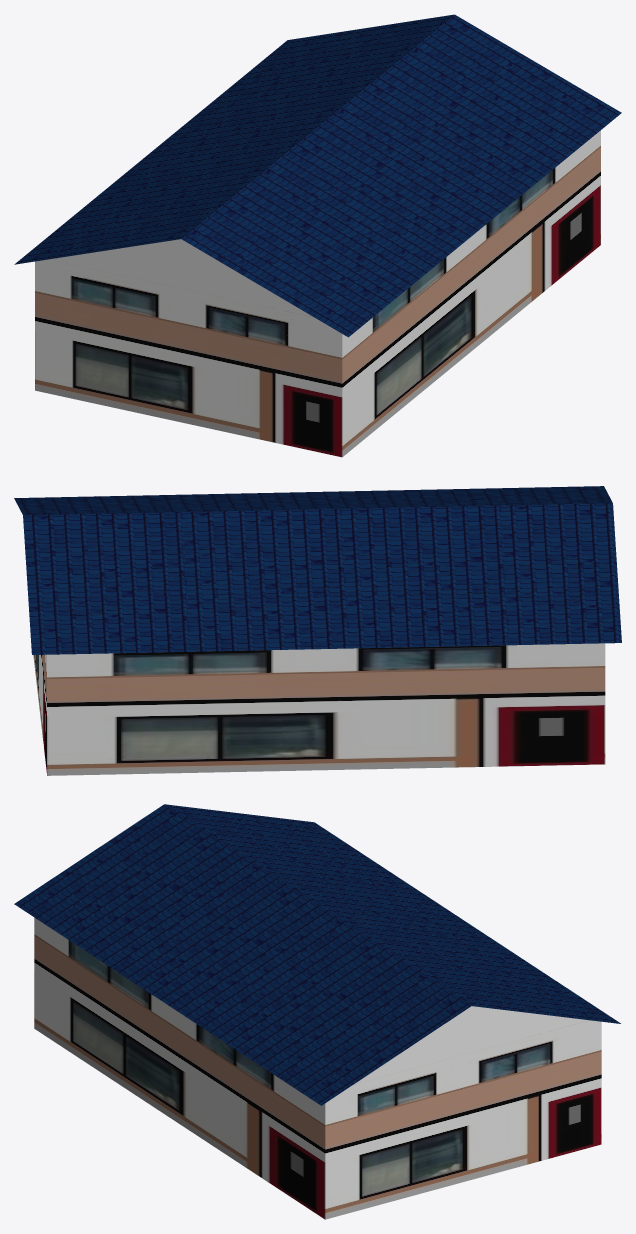
3 renders of one model, top to bottom at view 1: azimuth 30°, elevation 25°; view 2: azimuth 150°, elevation 25°; view 3: azimuth 270°, elevation 25°, orthographic. The views are drawn at different scales.
Parts seen in each view (by area): view 1: CityEngineMaterial_6_m, CityEngineMaterial_5_m, CityEngineMaterial_3_m; view 2: CityEngineMaterial_6_m, CityEngineMaterial_5_m; view 3: CityEngineMaterial_6_m, CityEngineMaterial_5_m, CityEngineMaterial_3_m.
Part boxes in pixels (box(x1,y1,x2,y2)): CityEngineMaterial_6_m: box(14, 14, 621, 337); CityEngineMaterial_5_m: box(35, 130, 600, 457); CityEngineMaterial_3_m: box(48, 239, 313, 317); CityEngineMaterial_6_m: box(14, 486, 621, 654); CityEngineMaterial_5_m: box(33, 643, 605, 775); CityEngineMaterial_6_m: box(14, 804, 620, 1105); CityEngineMaterial_5_m: box(34, 917, 601, 1219); CityEngineMaterial_3_m: box(354, 1006, 589, 1084).
Bounding box in the file's own units: 43.72 × 13.05 × 39.61.
